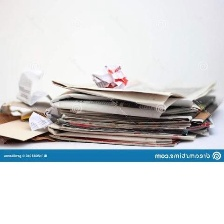news_paper: (46, 77, 223, 148)
